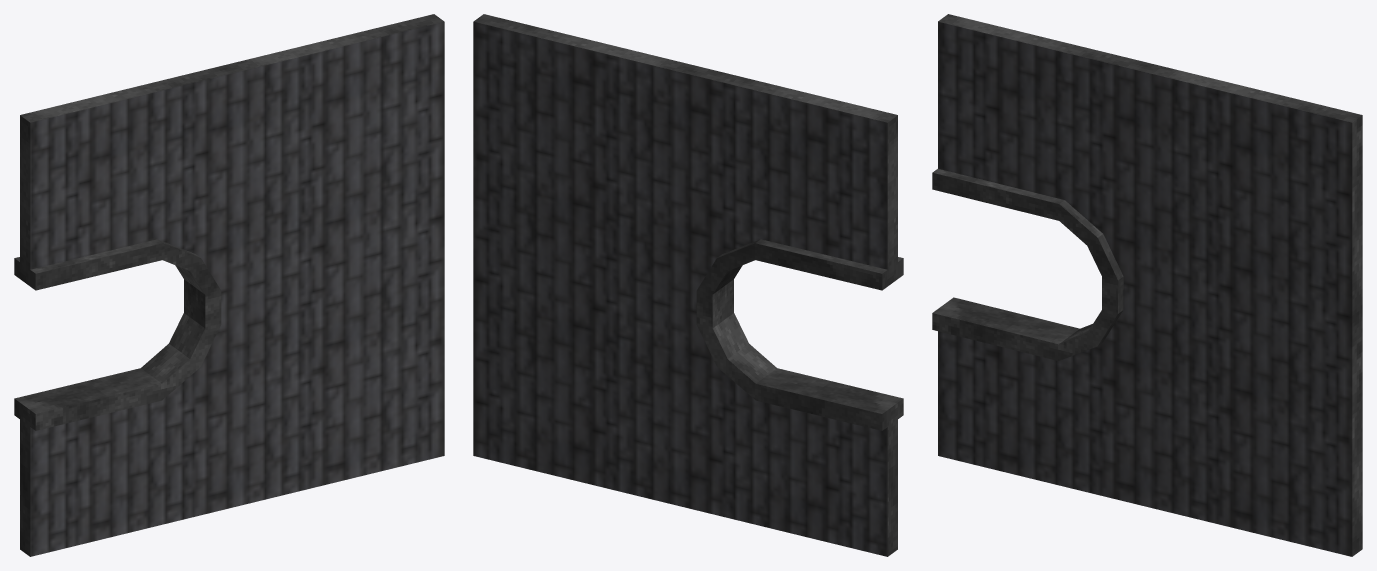
Rendered from Doorway.fbx.
The picture shows the model from 3 angles, left to right: view 1: azimuth 30°, elevation 25°; view 2: azimuth 150°, elevation 25°; view 3: azimuth 330°, elevation 25°; orthographic projection.
Parts seen in each view (by area): view 1: Doorway; view 2: Doorway; view 3: Doorway.
Part boxes in pixels (box(x1,y1,x2,y2)): Doorway: box(14, 14, 444, 556); Doorway: box(473, 14, 903, 556); Doorway: box(932, 14, 1362, 556).
Bounding box in the file's own units: 648 × 649 × 57.77.
1 material, 1 textured.
